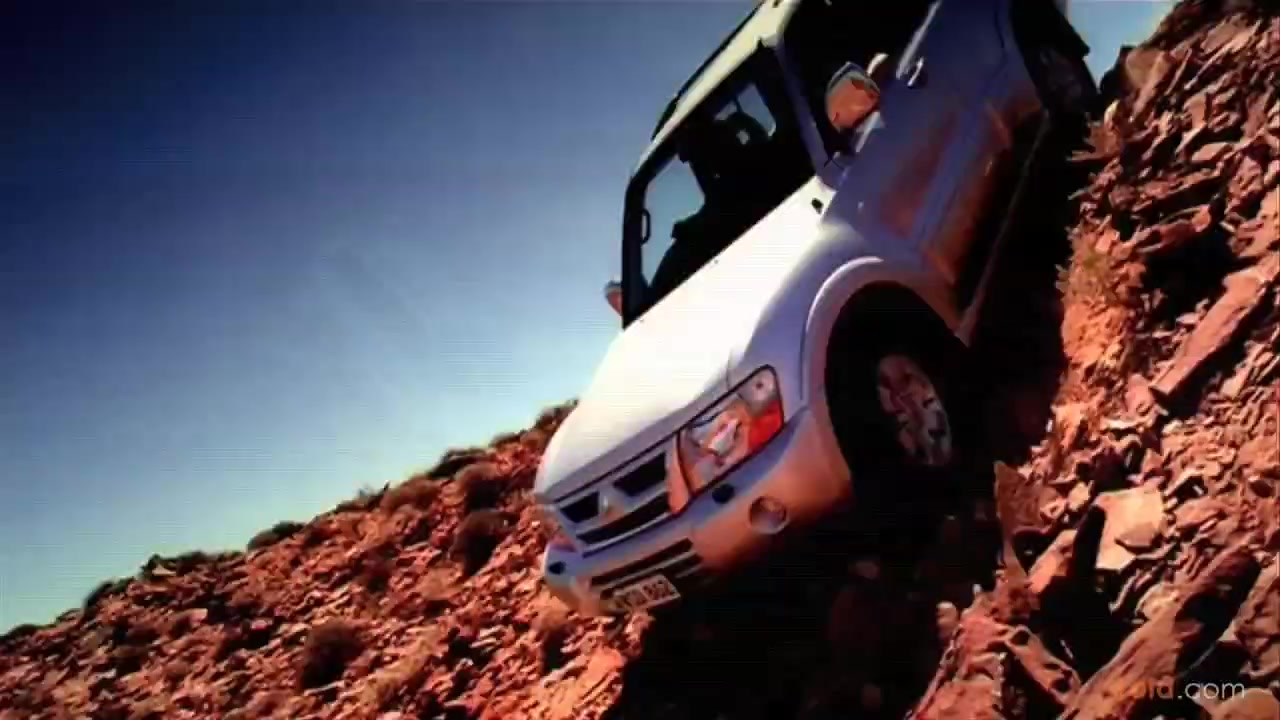car: (526, 1, 1096, 626)
